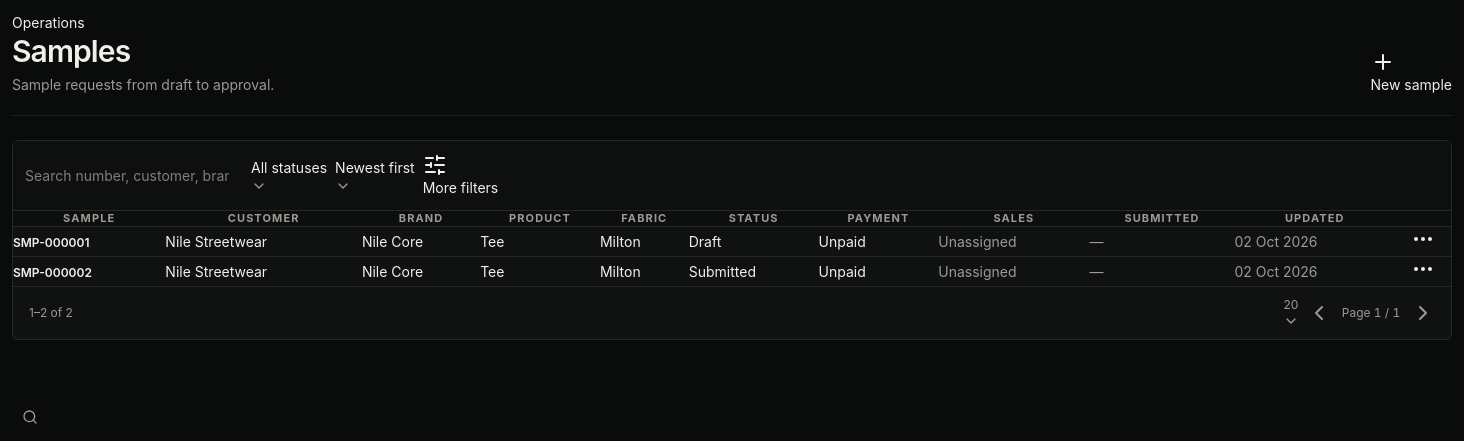
it: samples list › Edit draft row action only for drafts and managers
Check: the link "SMP-000002" is shown, box 13,265 -> 92,280
Click the button named "Actions for SMP-000002" at [1423, 269], box 1411,257 -> 1435,281
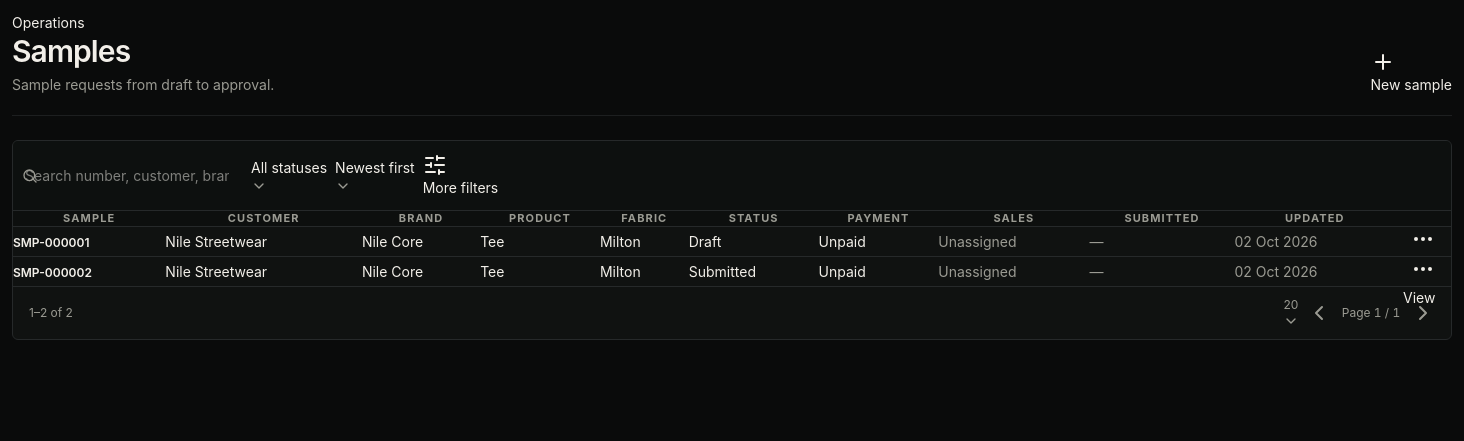
Check: the menu item "Edit draft" is not shown
Press Escape
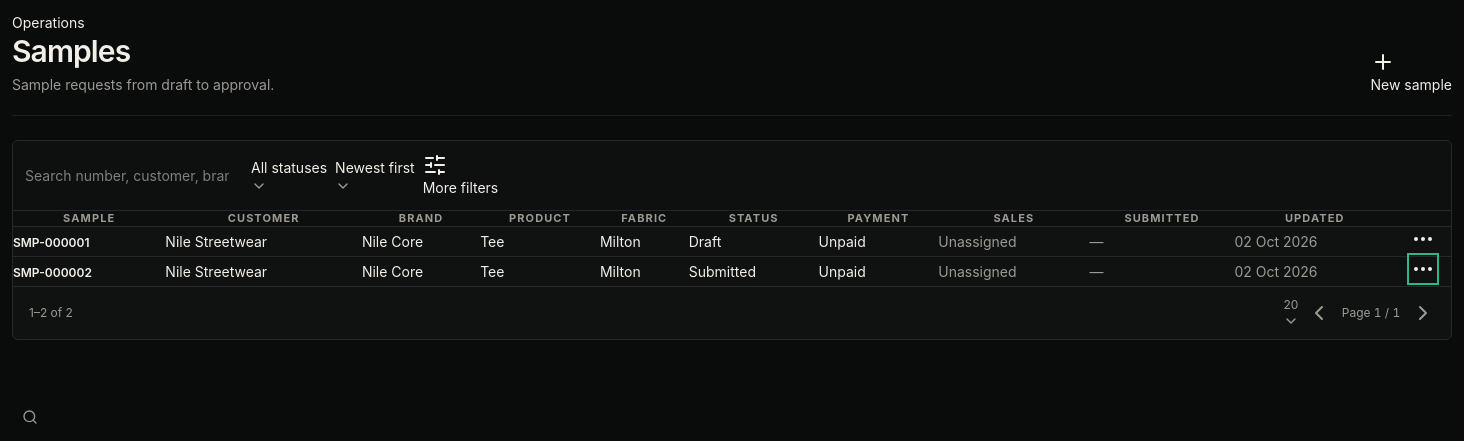
Click the button named "Actions for SMP-000001" at [1423, 239], box 1411,227 -> 1435,251
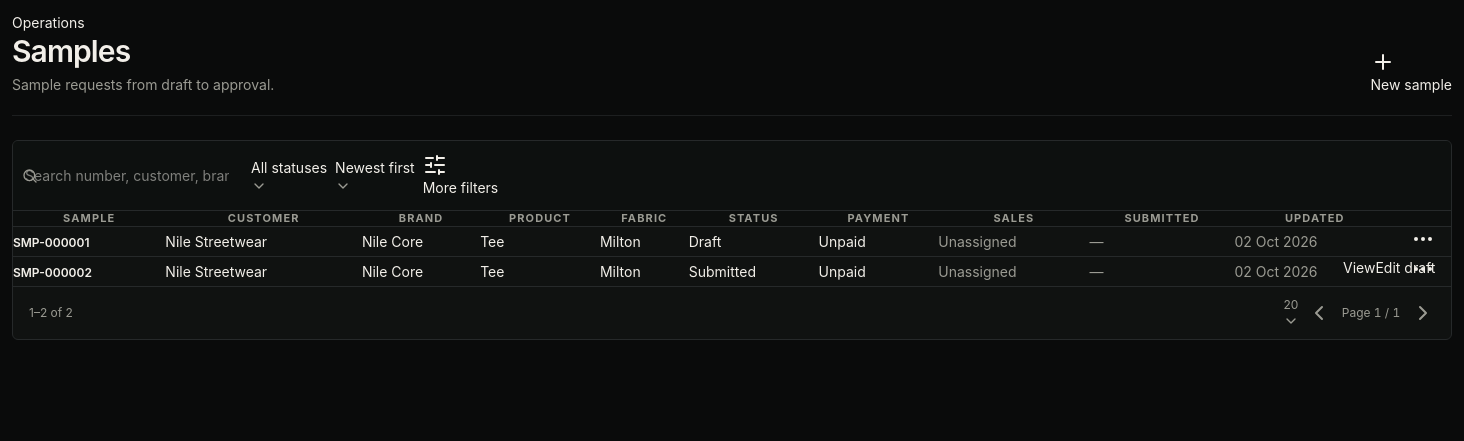
Check: the menu item "Edit draft" is shown, box 1375,259 -> 1435,276
